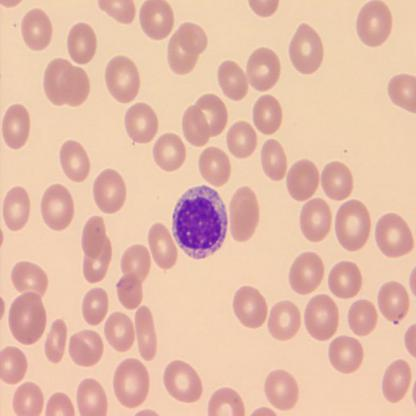Metamyelocyte: (169, 181, 231, 262)
